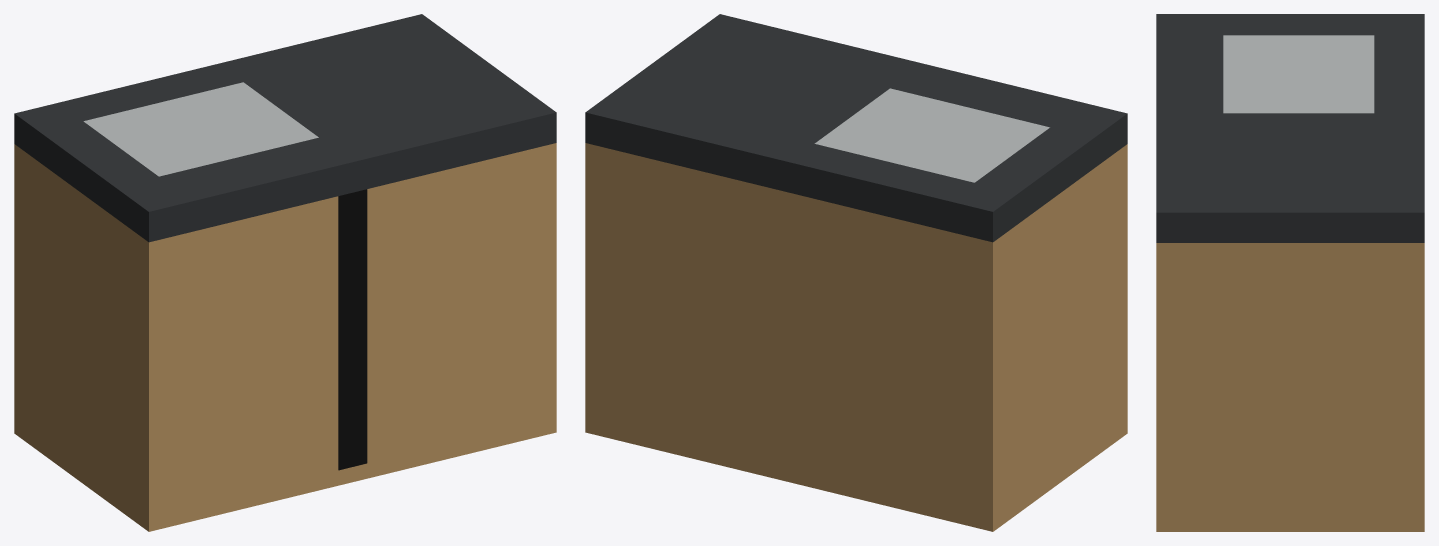
Rendered from camper_van_kitchen.glb.
The picture shows the model from 3 angles, left to right: view 1: azimuth 30°, elevation 25°; view 2: azimuth 150°, elevation 25°; view 3: azimuth 270°, elevation 25°; orthographic projection.
Visible parts, largest first — view 1: body:compound; view 2: body:compound; view 3: body:compound.
Boxes of the visible parts, bbox=[...] form: body:compound: bbox=[14, 14, 556, 531]; body:compound: bbox=[585, 14, 1127, 531]; body:compound: bbox=[1156, 14, 1424, 531].
Size of the model in its own units: 0.875 by 0.6562 by 0.5.
